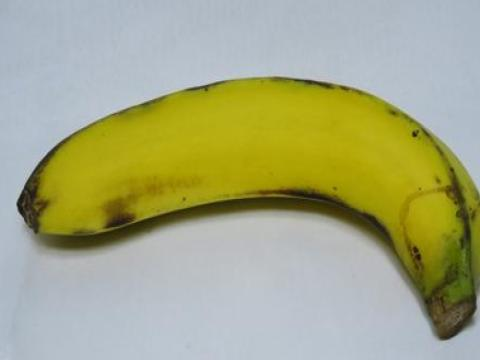freshripe: (12, 70, 479, 338)
